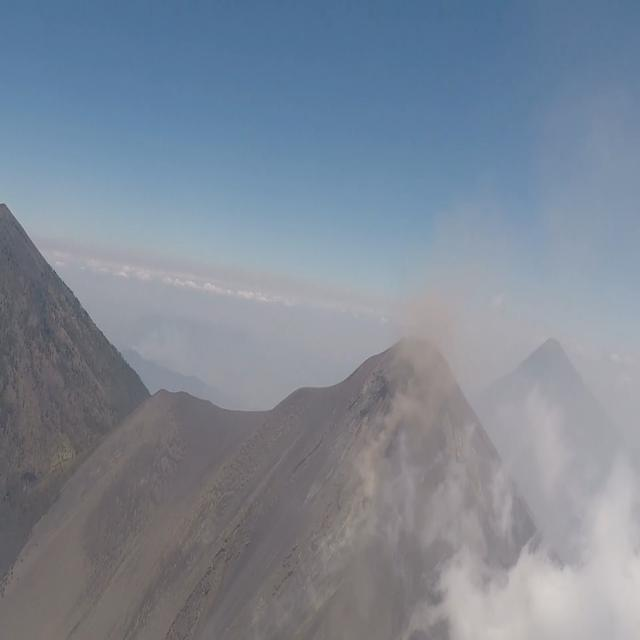Summit: (268, 329, 524, 498)
